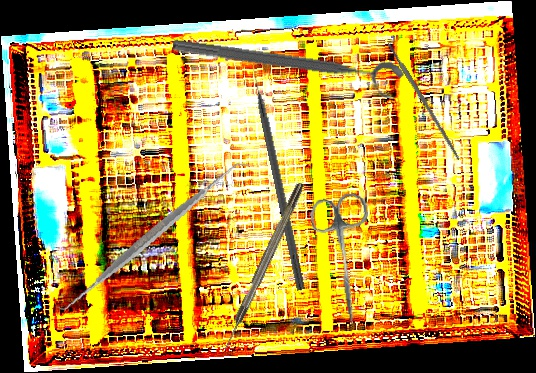Fixation Ring: (169, 31, 406, 103)
Hook Surgical: (219, 181, 307, 353), (249, 62, 308, 291)
Iris Scissors: (308, 191, 383, 330)
Scalpel Handle: (386, 41, 462, 161)
Spatula Surgical: (55, 134, 250, 338)
